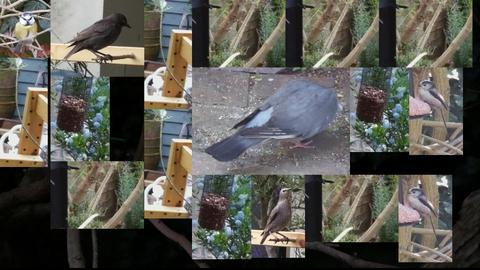blue tit: (12, 12, 38, 53)
long tailed tit: (407, 187, 440, 250), (418, 80, 450, 142)
starling: (63, 12, 132, 64), (260, 187, 292, 245)
wood pigeon: (204, 80, 338, 162)
